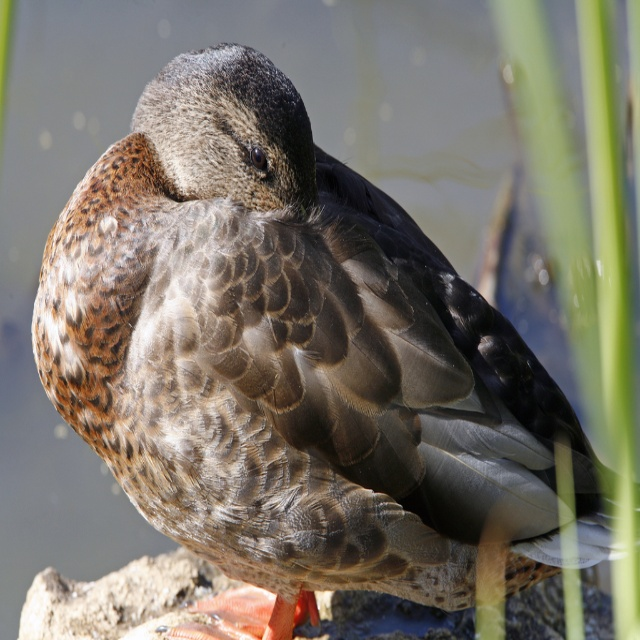Duck: (40, 24, 602, 624)
